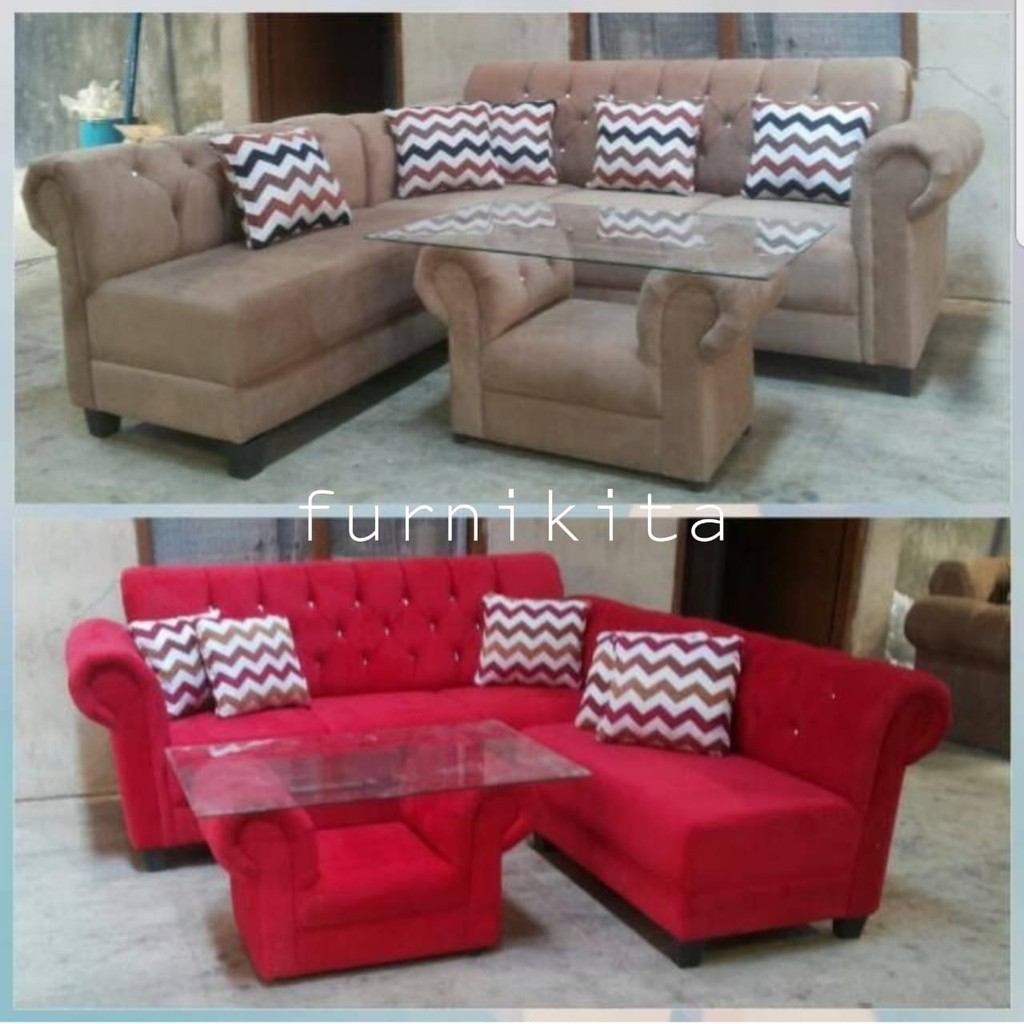meja: (392, 205, 816, 494), (165, 739, 596, 971)
sova: (49, 53, 981, 460), (61, 563, 909, 957)
